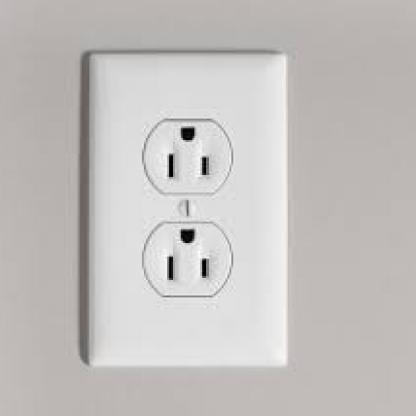OUTLET: (87, 53, 286, 370)
